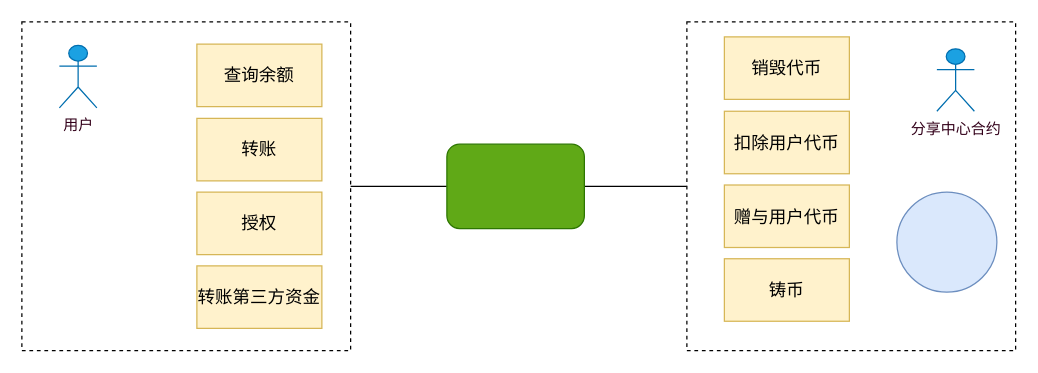
Some shapes in this 1038 by 373 pixel diagram are drawn without their labels. Each missing label, with the centre of its shape:
"初始化分享中心钱包" belongs at point 946,241.
"钱包中心" belongs at point 515,185.
